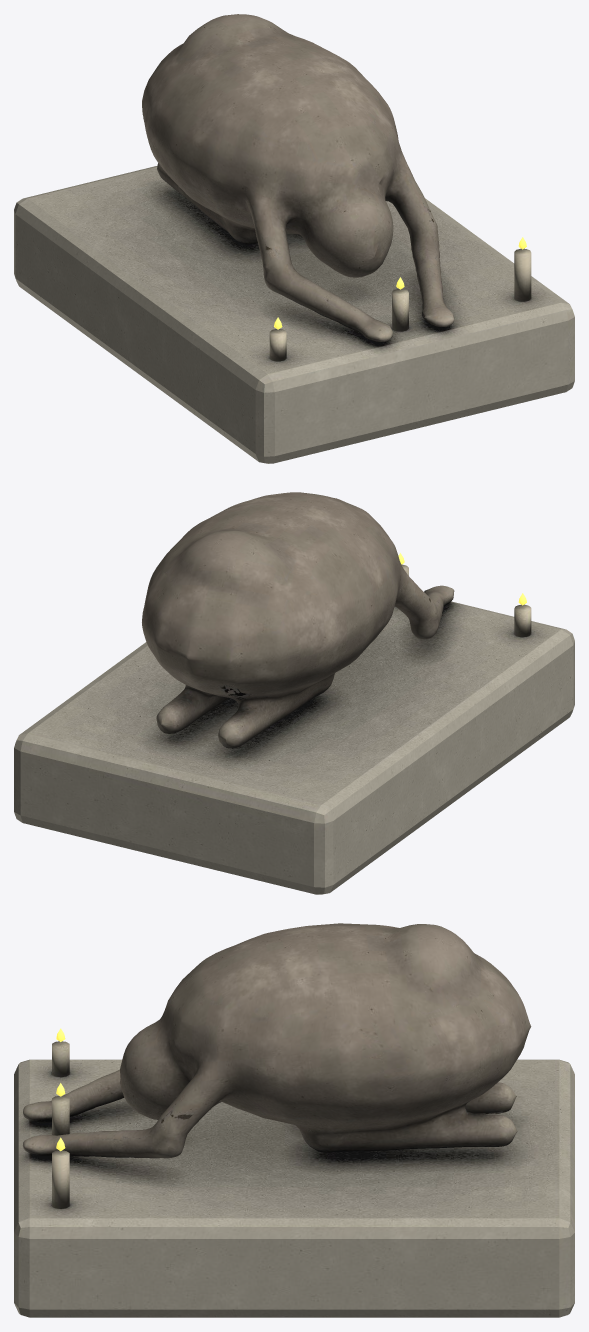
Rendered from canion_suplicante_b.glb.
3 views of the same model, one above another, from view 1: azimuth 30°, elevation 25°; view 2: azimuth 150°, elevation 25°; view 3: azimuth 270°, elevation 25° (orthographic). The views are drawn at different scales.
Visible parts, largest first — view 1: canion_suplicante_b_tronco; view 2: canion_suplicante_b_tronco; view 3: canion_suplicante_b_tronco.
Part boxes in pixels (x1=…): canion_suplicante_b_tronco: x1=14, y1=14, x2=574, y2=463; canion_suplicante_b_tronco: x1=14, y1=492, x2=574, y2=894; canion_suplicante_b_tronco: x1=14, y1=923, x2=574, y2=1317.
Size of the model in its own units: 1.3 by 1.08 by 1.8.
4 materials, 1 textured.
